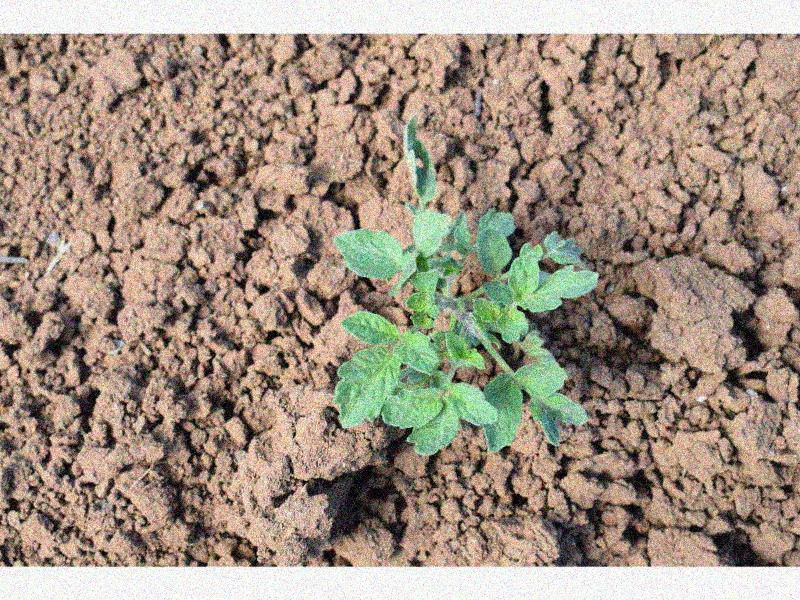tomato: (336, 118, 593, 455)
